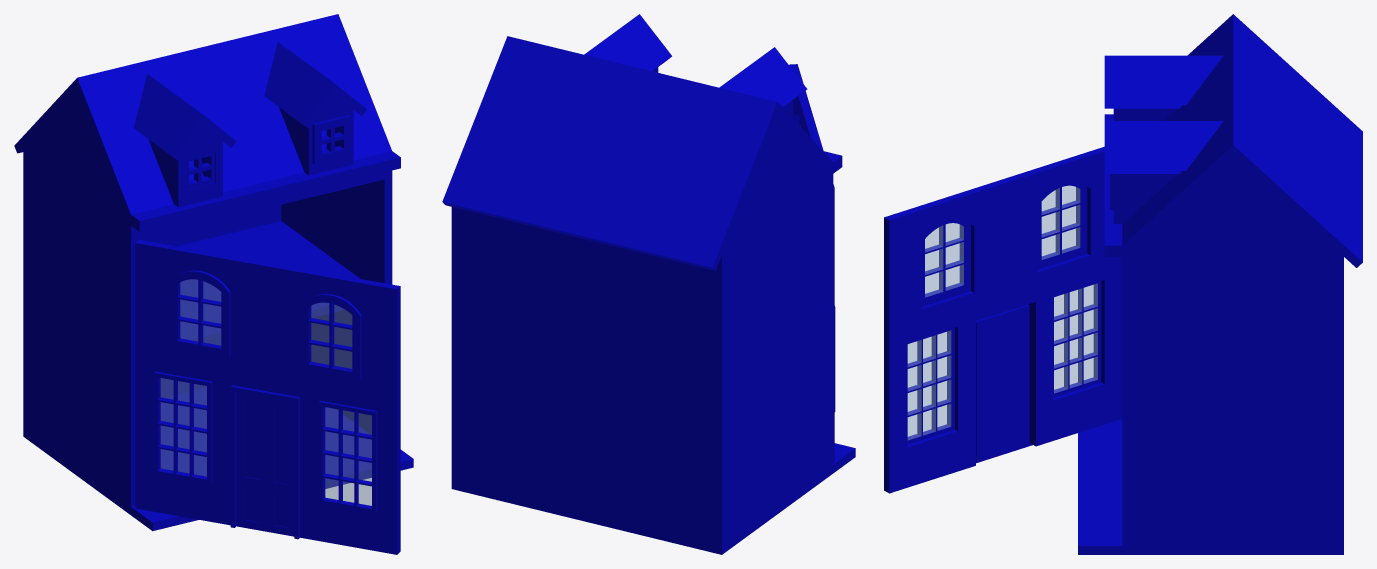
3 views of the same model, side by side, from view 1: azimuth 30°, elevation 25°; view 2: azimuth 150°, elevation 25°; view 3: azimuth 270°, elevation 25° (orthographic). The views are drawn at different scales.
Visible parts, largest first — view 1: 66491, 66640, 66647, 66490, 66643, 66641, 66642, 66489, 66488, 66648, 66487, 66486 (+13 smaller); view 2: 66644, 66646, 66640, 66641, 66647, 66643, 66666, 66662, 66491, 66667, 66663; view 3: 66643, 66491, 66646, 66647, 66490, 66641, 66667, 66663, 66488, 66489, 66487, 66486 (+3 smaller).
Part boxes in pixels (x1=…): 66491: x1=135, y1=239, x2=400, y2=554; 66640: x1=23, y1=89, x2=138, y2=506; 66647: x1=74, y1=14, x2=391, y2=224; 66490: x1=230, y1=385, x2=299, y2=539; 66643: x1=281, y1=170, x2=392, y2=434; 66641: x1=23, y1=387, x2=413, y2=531; 66642: x1=177, y1=221, x2=359, y2=343; 66489: x1=318, y1=400, x2=377, y2=513; 66488: x1=154, y1=371, x2=212, y2=484; 66648: x1=131, y1=151, x2=400, y2=231; 66487: x1=169, y1=270, x2=230, y2=357; 66486: x1=300, y1=293, x2=361, y2=381; 66644: x1=459, y1=209, x2=714, y2=543; 66646: x1=442, y1=44, x2=777, y2=270; 66640: x1=714, y1=114, x2=833, y2=545; 66641: x1=451, y1=443, x2=855, y2=554; 66647: x1=504, y1=36, x2=833, y2=172; 66643: x1=451, y1=207, x2=459, y2=481; 66666: x1=731, y1=54, x2=807, y2=107; 66662: x1=595, y1=21, x2=671, y2=71; 66491: x1=789, y1=64, x2=834, y2=462; 66667: x1=719, y1=47, x2=779, y2=90; 66663: x1=584, y1=14, x2=644, y2=57; 66643: x1=1122, y1=156, x2=1343, y2=545; 66491: x1=884, y1=146, x2=1122, y2=493; 66646: x1=1233, y1=20, x2=1362, y2=267; 66647: x1=1122, y1=14, x2=1239, y2=256; 66490: x1=976, y1=303, x2=1033, y2=463; 66641: x1=1078, y1=419, x2=1343, y2=554; 66667: x1=1104, y1=55, x2=1222, y2=108; 66663: x1=1104, y1=121, x2=1223, y2=173; 66488: x1=1053, y1=281, x2=1101, y2=397; 66489: x1=907, y1=328, x2=954, y2=444; 66487: x1=1037, y1=179, x2=1087, y2=269; 66486: x1=921, y1=217, x2=970, y2=306.
Size of the model in its own units: 0.35 by 0.5101 by 0.5401.
